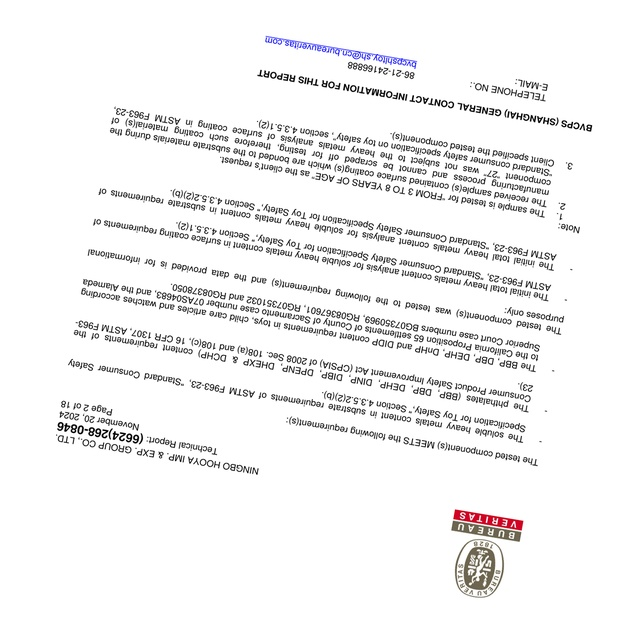bureau_veritas: (450, 502, 523, 600)
